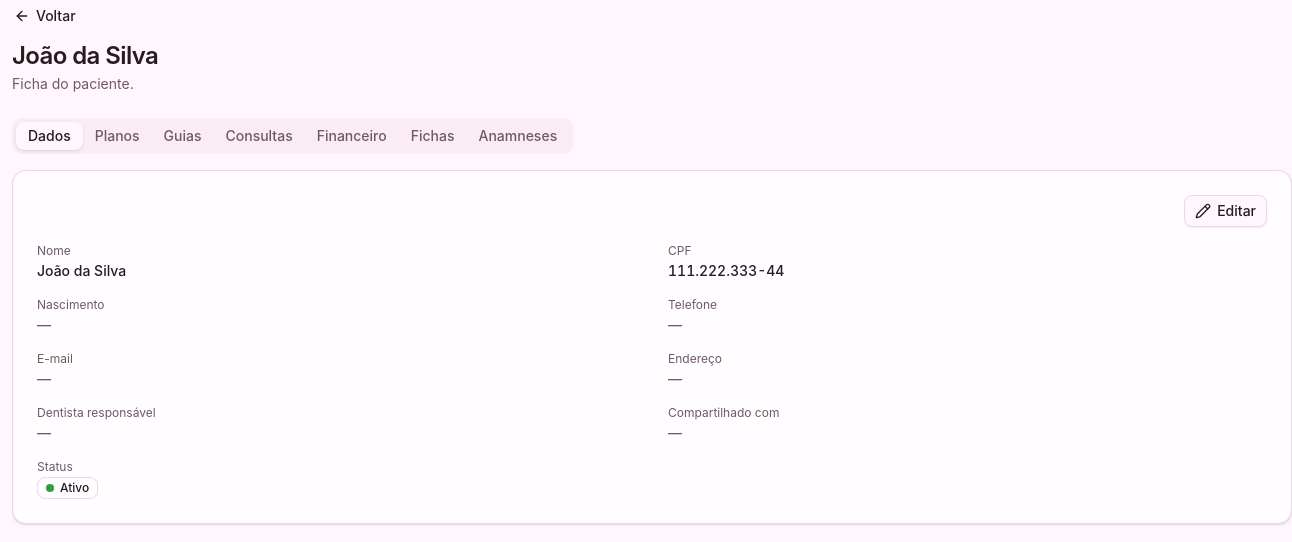
Scenario: PacienteDetalhePage › aba Consultas: é só histórico (dentista, sem cobrança, sem link nem coluna de dentes)
Step 1. Click the tab "Consultas" → (259, 136), box [214,122,305,150]
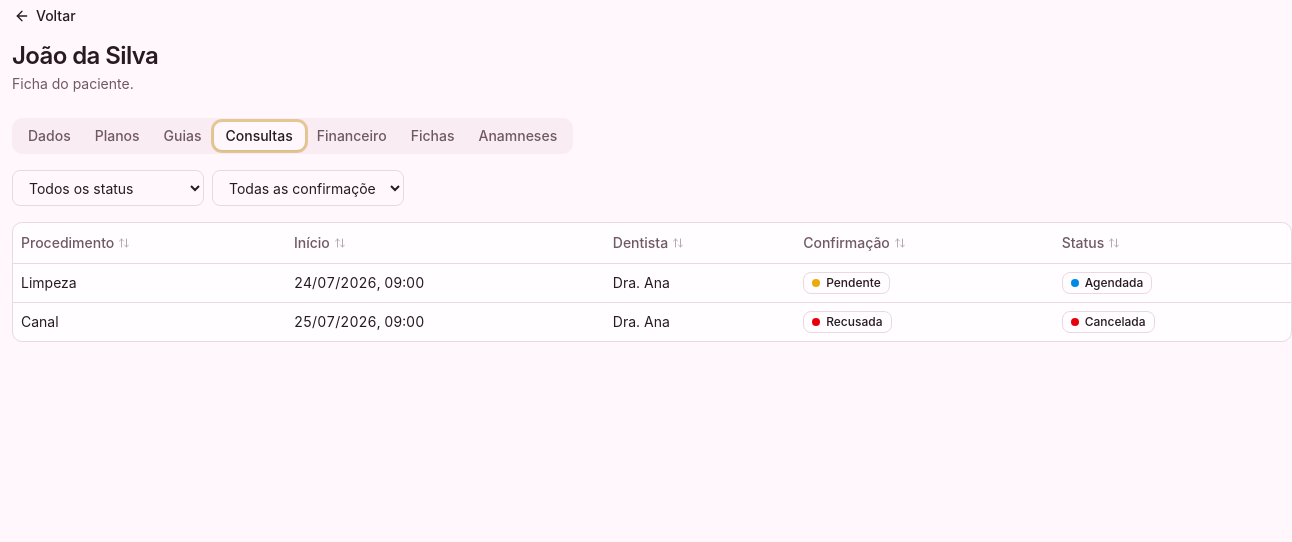
expect the text "Limpeza" is shown: met, box [13,263,286,302]
expect the text "Canal" is shown: met, box [13,302,286,340]
